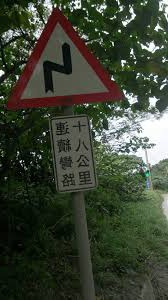Double_bend_right: (6, 11, 124, 109)
